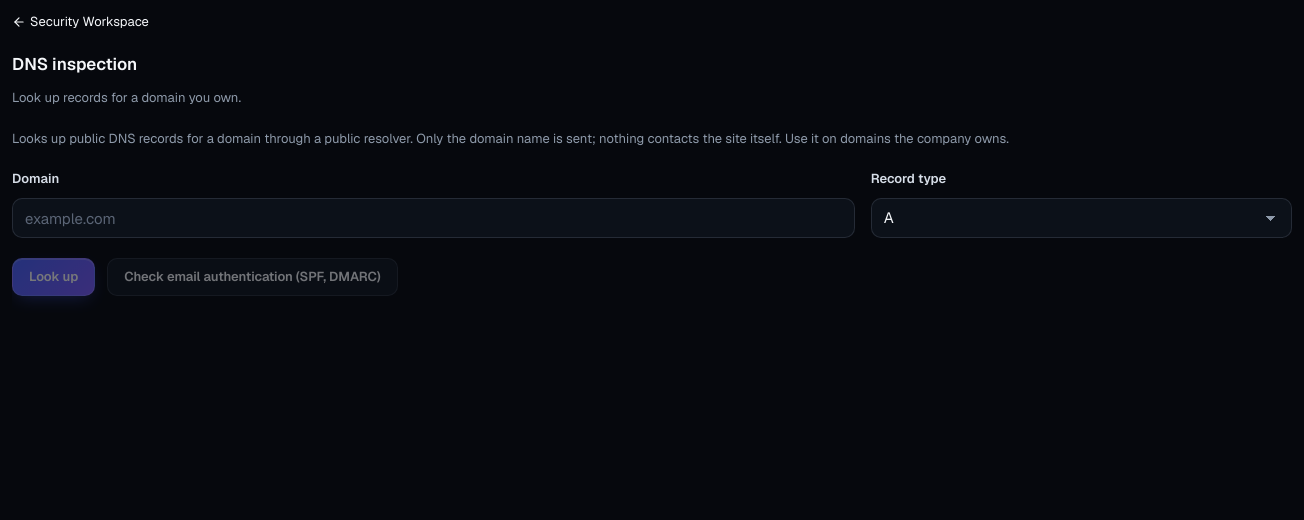
Test: Security Lab tools › DNS lookup shows records, and reports a missing domain or an unreachable resolver plainly
The image size is (1304, 520).
Type "Example.com" into the field labelled "Domain" at (433, 218), box [12, 198, 855, 238]
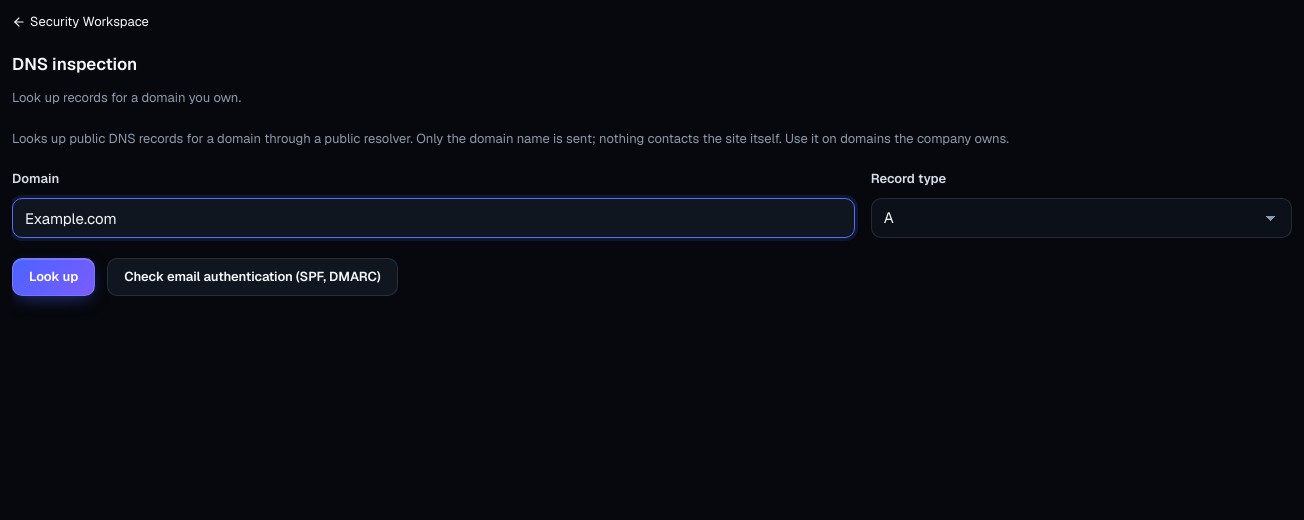
Click the button "Look up" at (54, 277), box [12, 258, 95, 296]
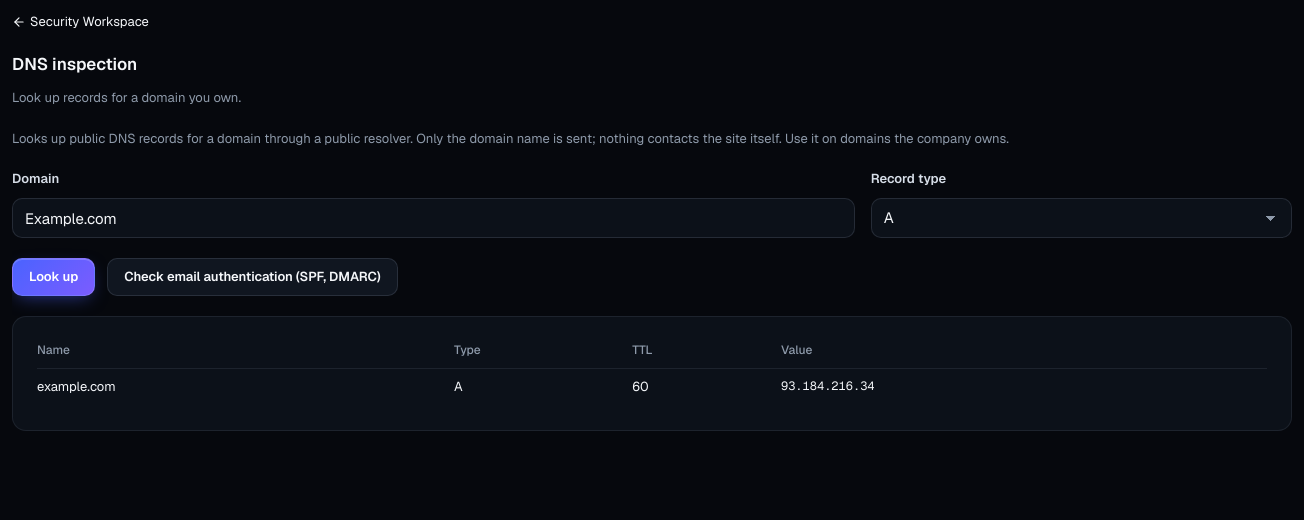
Expected: the text "93.184.216.34" is shown, [781, 369, 1267, 406]
Click the button "Look up" at (54, 277), box [12, 258, 95, 296]
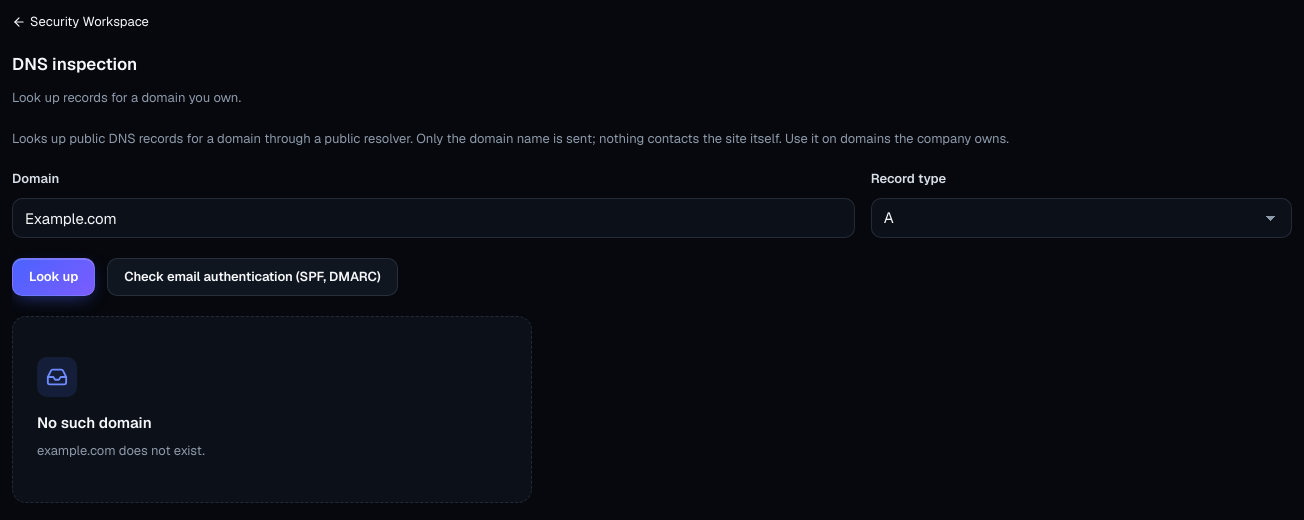
Expected: the heading "No such domain" is shown, [37, 413, 152, 433]
Click the button "Look up" at (54, 277), box [12, 258, 95, 296]
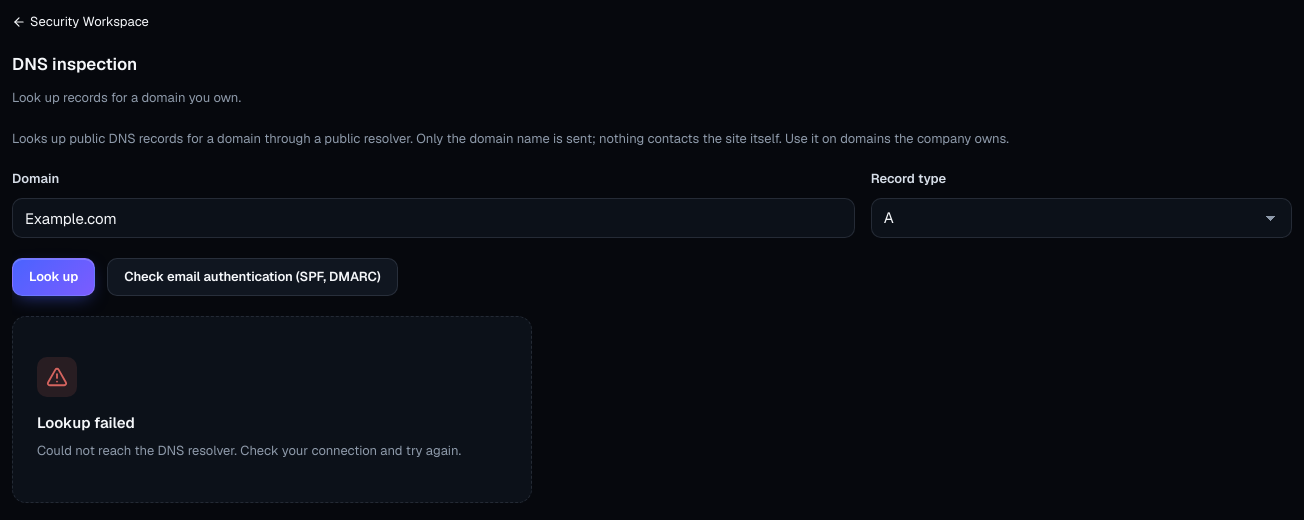
Expected: the heading "Lookup failed" is shown, [37, 413, 135, 433]
